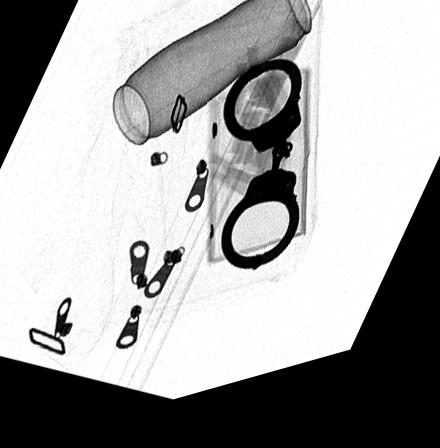HandCuffs: (222, 73, 302, 285)
